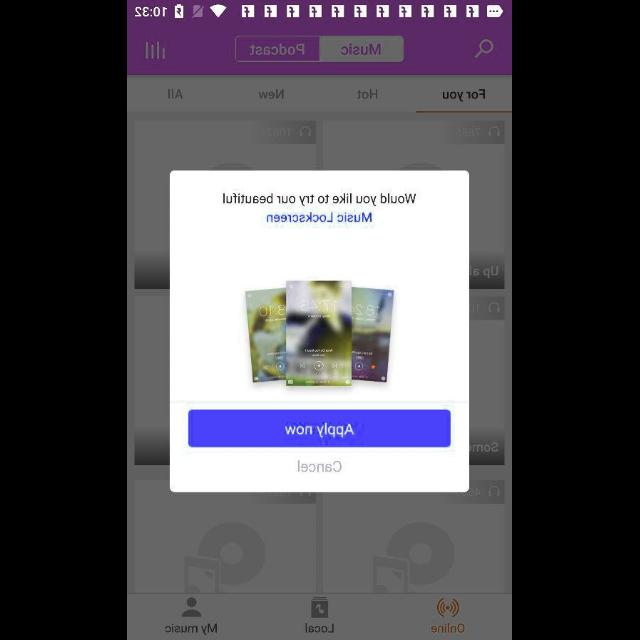icon: (146, 41, 166, 60), (182, 598, 202, 616), (312, 597, 328, 619), (476, 40, 494, 59)
image: (246, 280, 394, 388), (436, 598, 459, 618)
panel: (170, 171, 470, 493)
text: (221, 193, 417, 207), (266, 211, 374, 223), (166, 623, 218, 635), (298, 460, 342, 472), (444, 90, 486, 102), (432, 623, 464, 633), (306, 623, 334, 633), (259, 90, 285, 100), (357, 90, 377, 100), (169, 88, 183, 100)
textbutton: (188, 410, 452, 448), (236, 36, 320, 64), (320, 36, 404, 64)
uppertaskbar: (128, 1, 512, 23)
